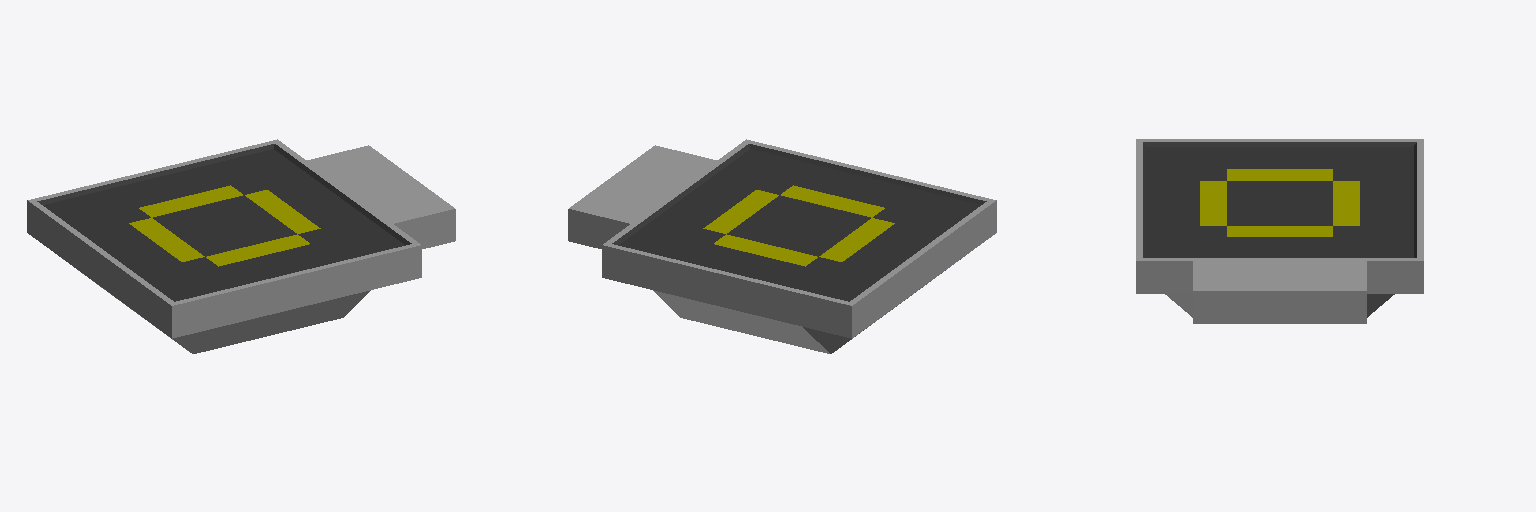
File: LandingPad.obj
The picture shows the model from 3 angles: view 1: azimuth 30°, elevation 25°; view 2: azimuth 150°, elevation 25°; view 3: azimuth 270°, elevation 25°; orthographic projection.
Visible parts, largest first — view 1: Cube; view 2: Cube; view 3: Cube.
Boxes of the visible parts, box(x1,y1,x2,y2) form: Cube: box(27, 139, 455, 353); Cube: box(568, 139, 996, 353); Cube: box(1136, 139, 1423, 323).
Bounding box in the file's own units: 20 × 5 × 16.